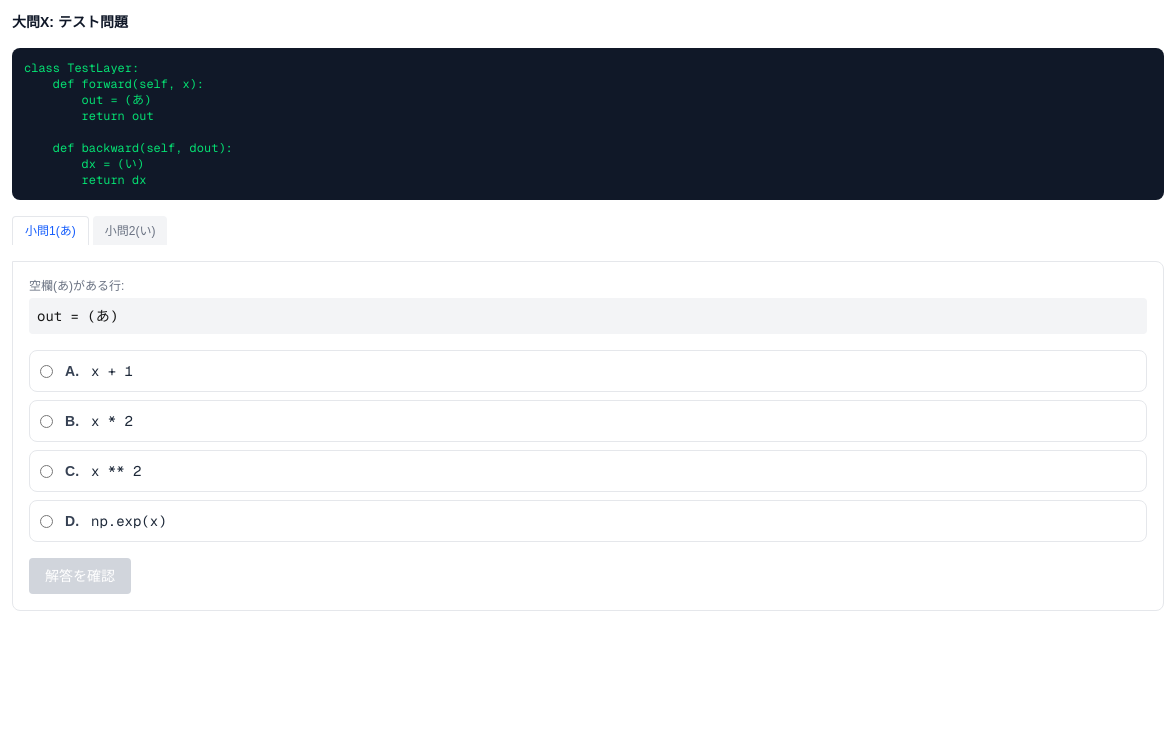
it: ExamCodeProblem › 不正解選択 → 解答確認後に不正解と正解が表示される
The image size is (1164, 732).
// 小問1でAを選択（不正解）
Click the radio button labelled "A. x + 1". click: (46, 371)
box: [40,364,53,378]
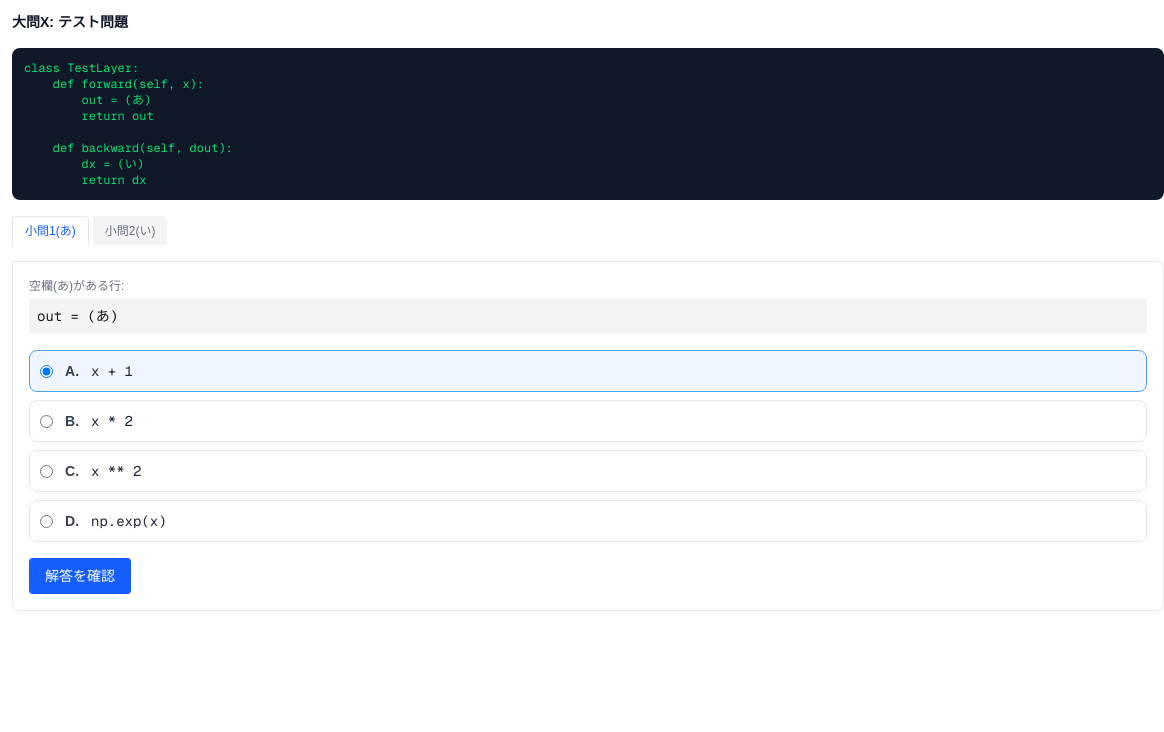
Click the button "解答を確認". click: (80, 576)
box: [29,558,131,594]
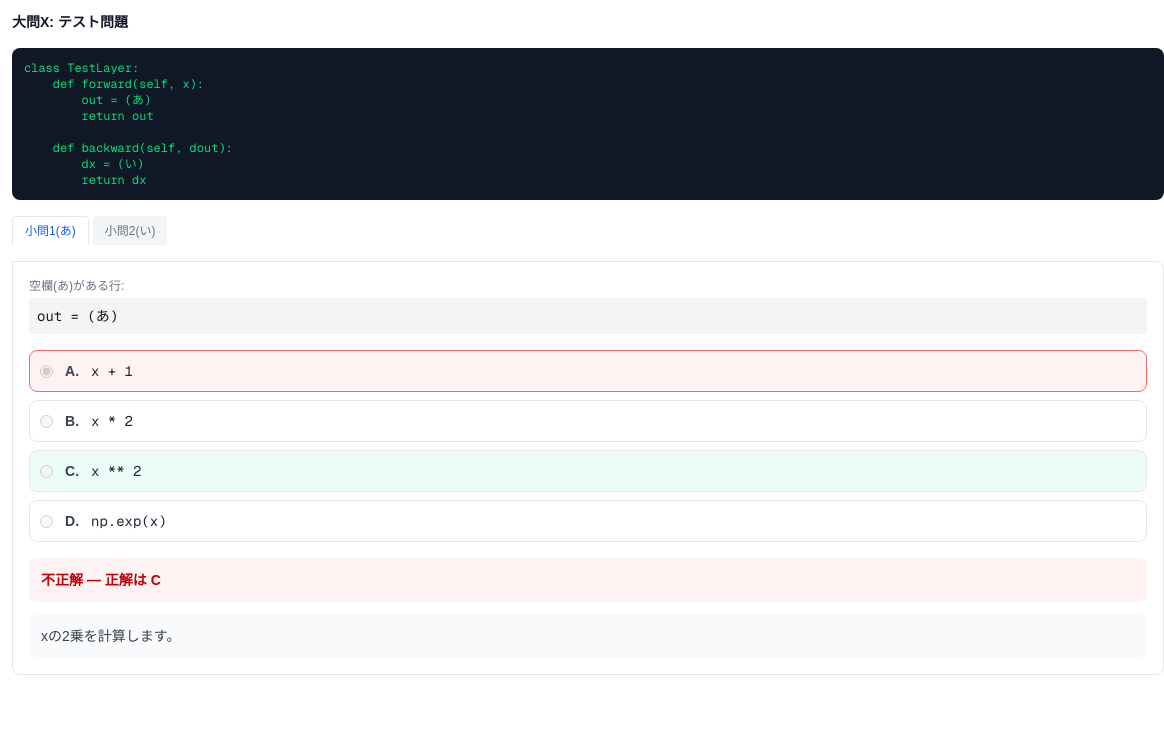
Check: the text with test id "exam-result" shows "不正解", box [41,572,161,588]
